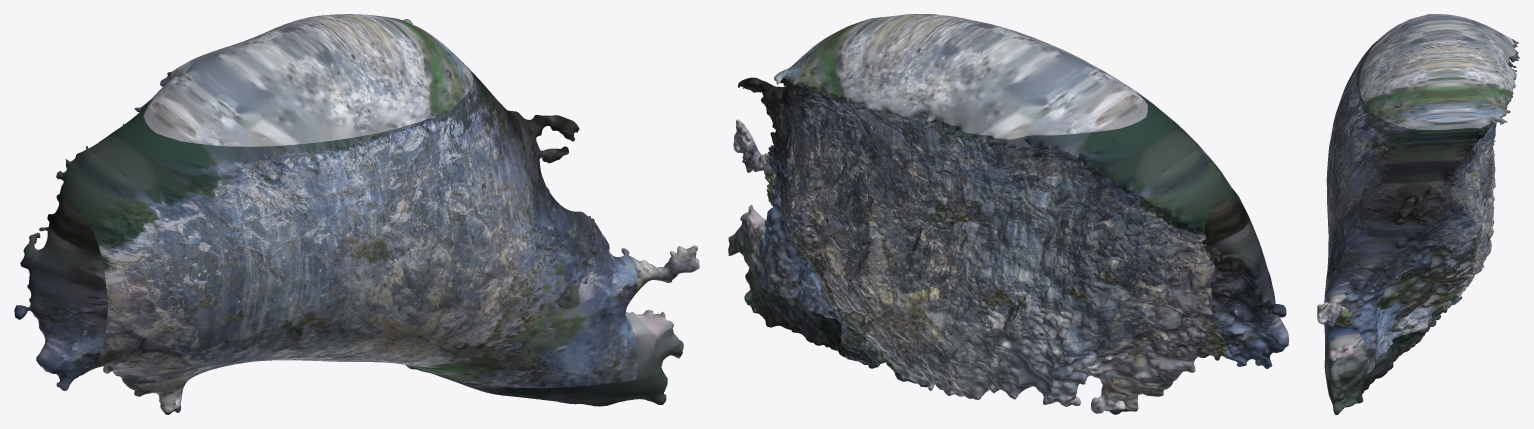
The model's file is korno_v2_light.glb.
3 views of the same model, side by side, from view 1: azimuth 30°, elevation 25°; view 2: azimuth 150°, elevation 25°; view 3: azimuth 270°, elevation 25° (orthographic). The views are drawn at different scales.
Visible parts, largest first — view 1: geometry_0; view 2: geometry_0; view 3: geometry_0.
Part boxes in pixels (box(x1,y1,x2,y2)): geometry_0: box(14, 14, 699, 414); geometry_0: box(728, 14, 1288, 414); geometry_0: box(1317, 14, 1519, 414).
Bounding box in the file's own units: 18.73 × 11.33 × 7.45.
1 material, 1 textured.
